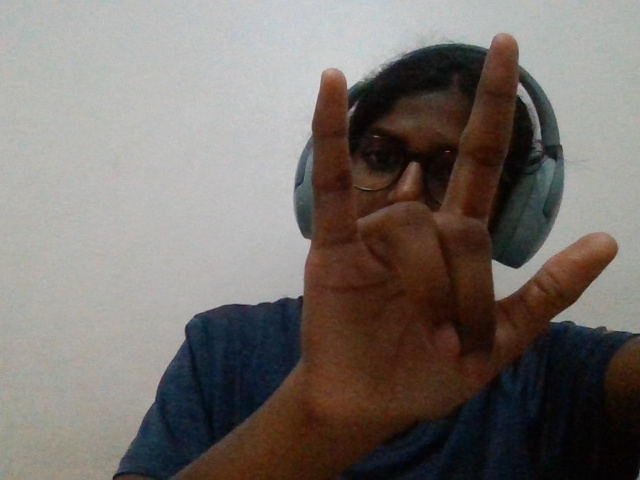I Love You: (265, 25, 629, 455)
